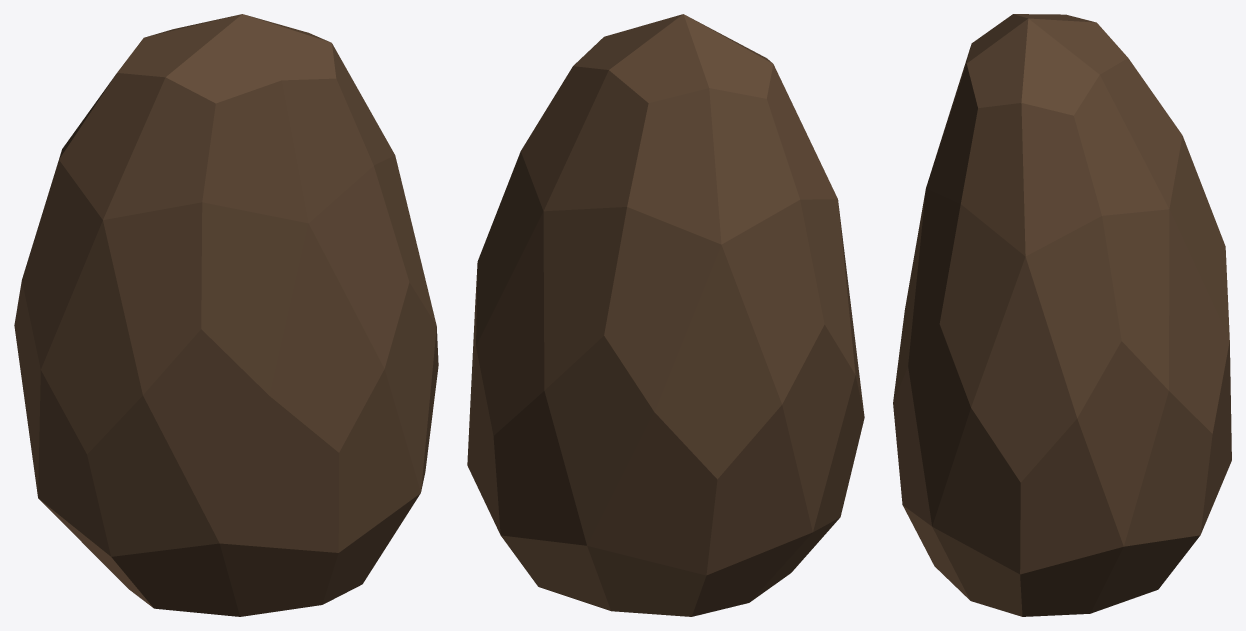
File: Rock_6_Dark_Brown.fbx
The picture shows the model from 3 angles, left to right: view 1: azimuth 30°, elevation 25°; view 2: azimuth 150°, elevation 25°; view 3: azimuth 270°, elevation 25°; orthographic projection. The views are drawn at different scales.
Parts seen in each view (by area): view 1: Rock_6_Dark_Brown; view 2: Rock_6_Dark_Brown; view 3: Rock_6_Dark_Brown.
Part boxes in pixels (x1,y1,x2,y2): Rock_6_Dark_Brown: (14, 14, 438, 616); Rock_6_Dark_Brown: (467, 14, 864, 616); Rock_6_Dark_Brown: (893, 14, 1231, 616).
Bounding box in the file's own units: 148 × 220 × 120.
